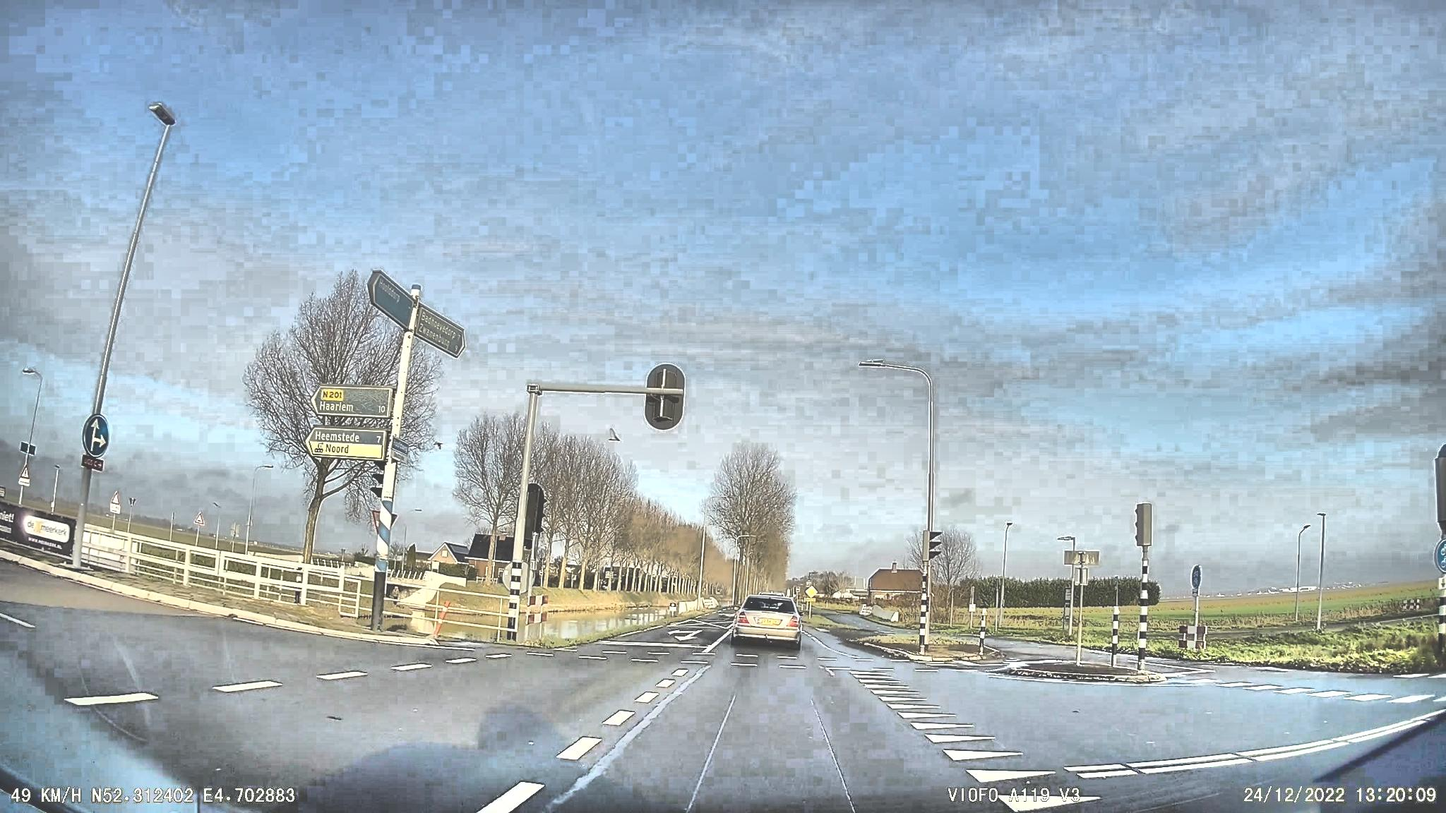Roads: (0, 602, 1446, 813)
